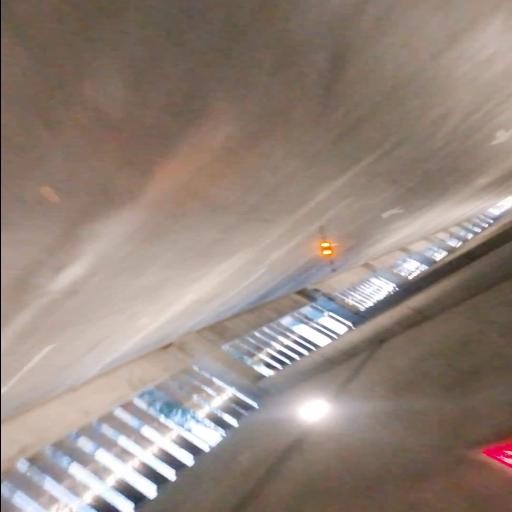uav: (305, 219, 341, 277)
